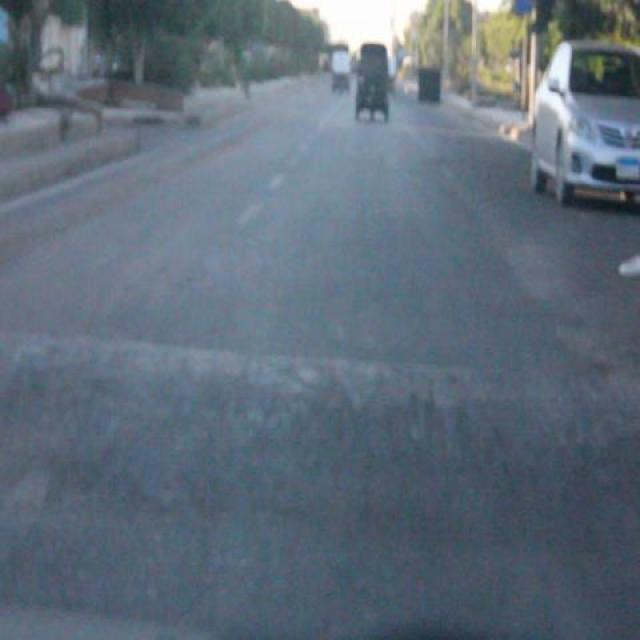Unmarked Bump: (0, 328, 640, 555)
